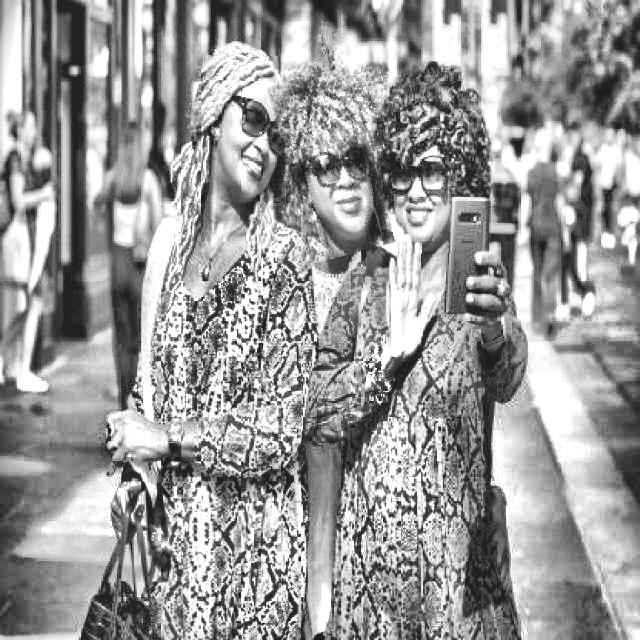happy: (202, 56, 280, 220), (384, 77, 450, 254)
neutral: (278, 69, 384, 260)
